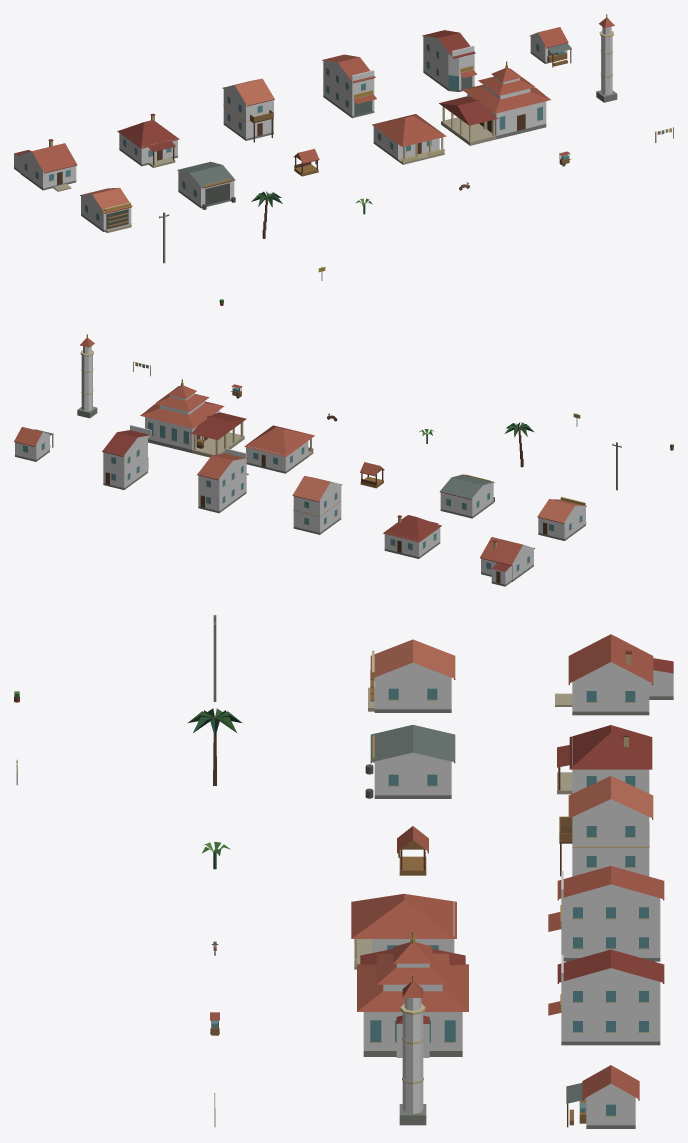
Rendered from riverside-town-kit.glb.
3 renders of one model, top to bottom at view 1: azimuth 30°, elevation 25°; view 2: azimuth 150°, elevation 25°; view 3: azimuth 270°, elevation 25°, orthographic. The views are drawn at different scales.
Visible parts, largest first — view 1: GEO-mosque, GEO-shophouse, GEO-shophouse-corner, GEO-house-two-storey, GEO-house-terrace, GEO-house-kampung, GEO-house-limasan, GEO-bengkel-motor, GEO-toko-kelontong, GEO-warung, GEO-mosque-minaret, GEO-pos-ronda; view 2: GEO-mosque, GEO-shophouse, GEO-house-two-storey, GEO-shophouse-corner, GEO-house-terrace, GEO-house-kampung, GEO-bengkel-motor, GEO-house-limasan, GEO-toko-kelontong, GEO-warung, GEO-mosque-minaret, GEO-pos-ronda; view 3: GEO-mosque, GEO-shophouse-corner, GEO-shophouse, GEO-house-two-storey, GEO-house-kampung, GEO-bengkel-motor, GEO-toko-kelontong, GEO-house-terrace, GEO-house-limasan, GEO-warung, GEO-mosque-minaret, GEO-pos-ronda (+1 smaller).
Part boxes in pixels (x1,y1,x2,y2): GEO-mosque: (439, 61, 550, 145); GEO-shophouse: (322, 54, 376, 118); GEO-shophouse-corner: (422, 30, 476, 91); GEO-house-two-storey: (222, 78, 274, 142); GEO-house-terrace: (372, 114, 446, 164); GEO-house-kampung: (14, 139, 77, 191); GEO-house-limasan: (117, 113, 179, 167); GEO-bengkel-motor: (177, 161, 235, 209); GEO-toko-kelontong: (80, 187, 132, 232); GEO-warung: (530, 27, 571, 67); GEO-mosque-minaret: (596, 14, 617, 102); GEO-pos-ronda: (293, 148, 319, 176); GEO-mosque: (140, 379, 246, 457); GEO-shophouse: (197, 448, 248, 513); GEO-house-two-storey: (292, 476, 342, 534); GEO-shophouse-corner: (102, 425, 152, 489); GEO-house-terrace: (244, 425, 314, 473); GEO-house-kampung: (480, 537, 534, 586); GEO-bengkel-motor: (439, 474, 494, 518); GEO-house-limasan: (383, 515, 441, 558); GEO-toko-kelontong: (537, 496, 586, 540); GEO-warung: (14, 427, 53, 461); GEO-mosque-minaret: (77, 334, 97, 418); GEO-pos-ronda: (360, 462, 384, 488); GEO-mosque: (357, 931, 468, 1057); GEO-shophouse-corner: (548, 949, 664, 1045); GEO-shophouse: (548, 866, 664, 961); GEO-house-two-storey: (559, 776, 653, 876); GEO-house-kampung: (555, 634, 673, 715); GEO-bengkel-motor: (365, 725, 455, 798); GEO-toko-kelontong: (368, 639, 455, 712); GEO-house-terrace: (351, 893, 456, 969); GEO-house-limasan: (557, 725, 652, 794); GEO-warung: (566, 1065, 639, 1128); GEO-mosque-minaret: (399, 975, 426, 1125); GEO-pos-ronda: (397, 826, 428, 875).
Size of the model in its own units: 95.06 by 14.45 by 60.01.
